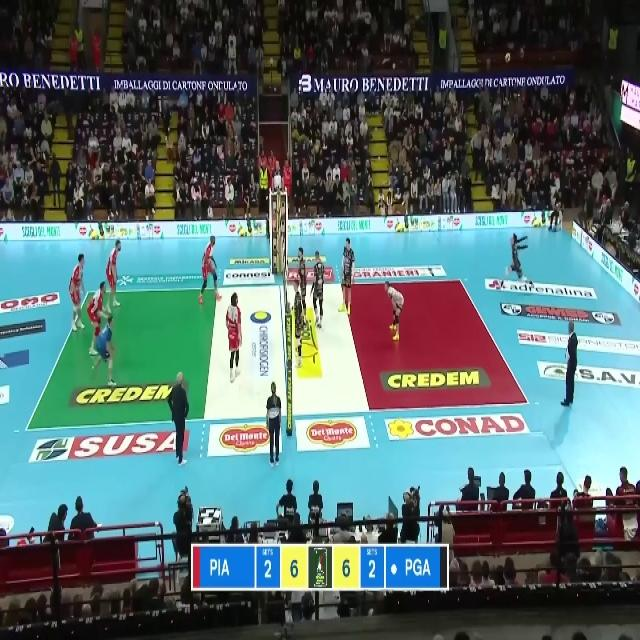volleyball court: (23, 277, 527, 433)
